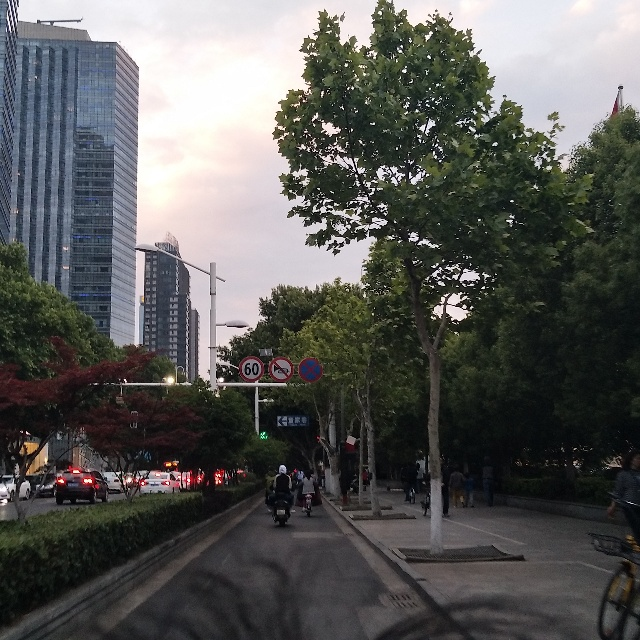nohonk: (267, 354, 296, 387)
stop: (299, 354, 326, 388)
